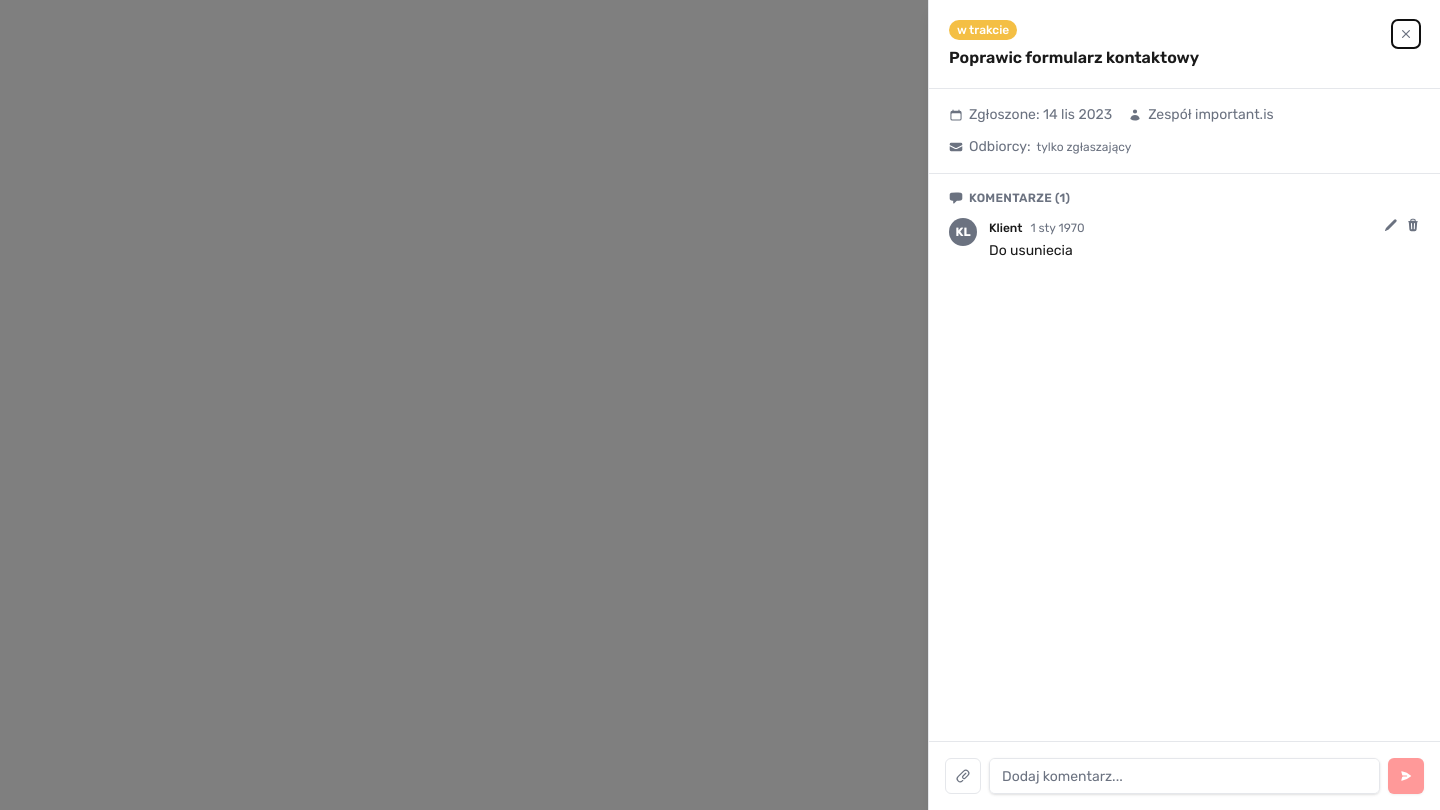
edycja i usuwanie wlasnego komentarza › usuwanie: pyta o potwierdzenie, po "tak" wysyla DELETE i zdejmuje komentarz z listy
Expected: the text "Do usuniecia" is shown, [989, 242, 1073, 259]
Step 1. Click the button named "Usuń komentarz" → point(1413, 225), box [1406, 218, 1420, 232]
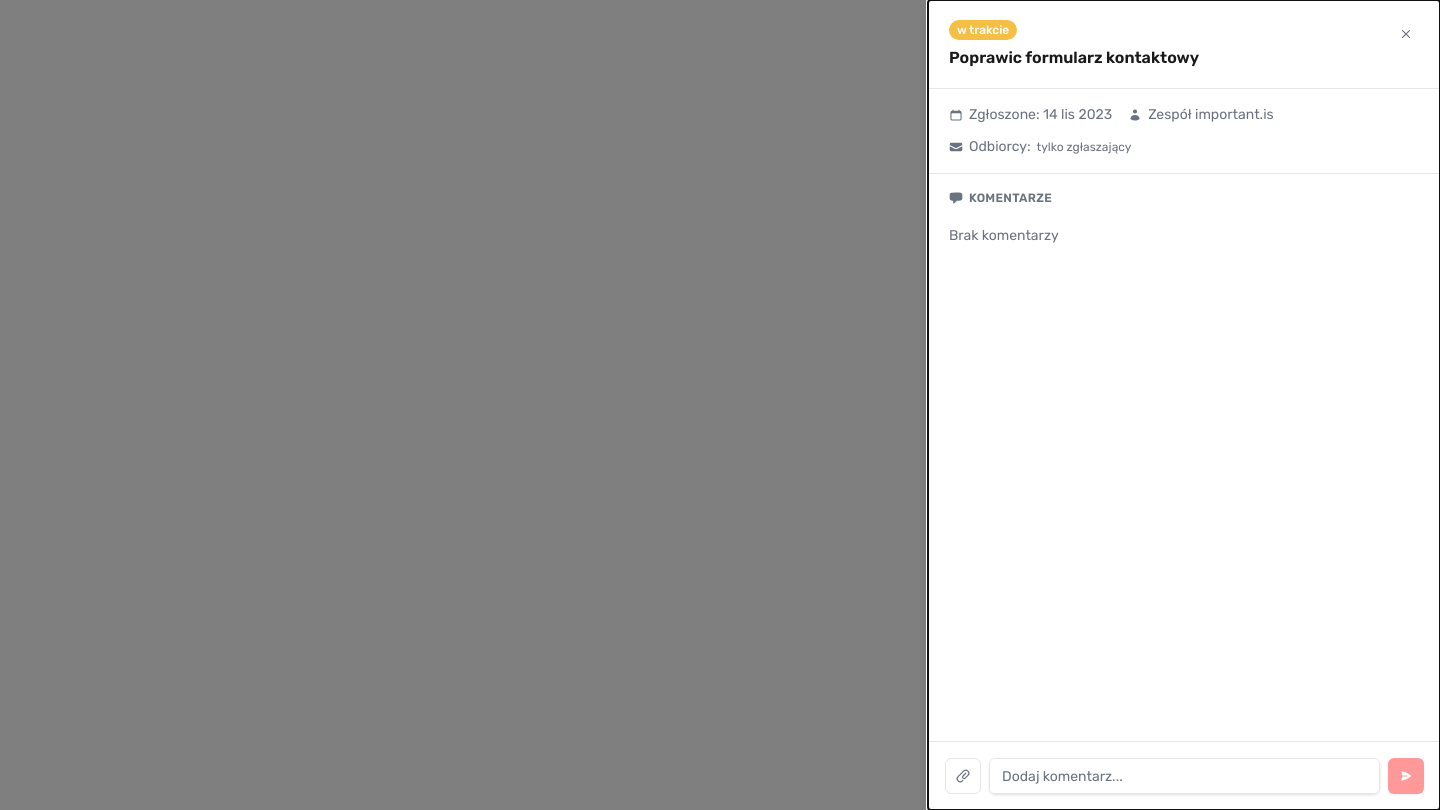
Now the text "Brak komentarzy" is shown, box [949, 227, 1059, 244]
